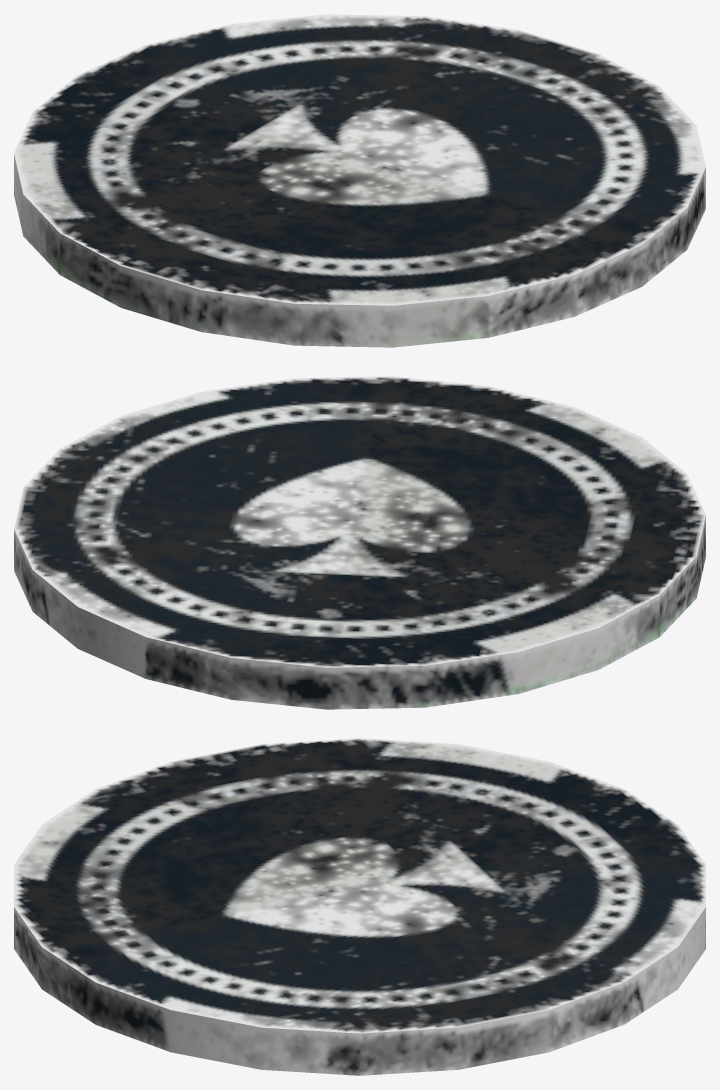
3 renders of one model, top to bottom at view 1: azimuth 30°, elevation 25°; view 2: azimuth 150°, elevation 25°; view 3: azimuth 270°, elevation 25°, orthographic.
Parts seen in each view (by area): view 1: f3__; view 2: f3__; view 3: f3__.
Part boxes in pixels (x1,y1,x2,y2): f3__: [14, 14, 705, 347]; f3__: [14, 376, 705, 709]; f3__: [14, 738, 705, 1075].
Size of the model in its own units: 30 by 2 by 29.69.
Materials: 1 (1 with a texture image).
